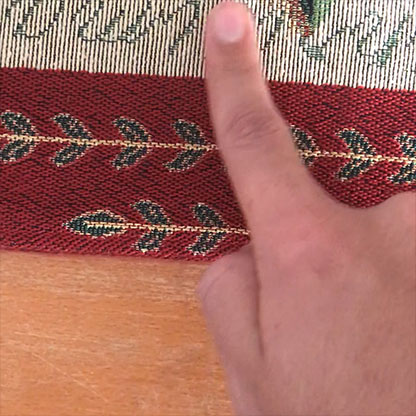fingertip: (196, 1, 270, 60)
